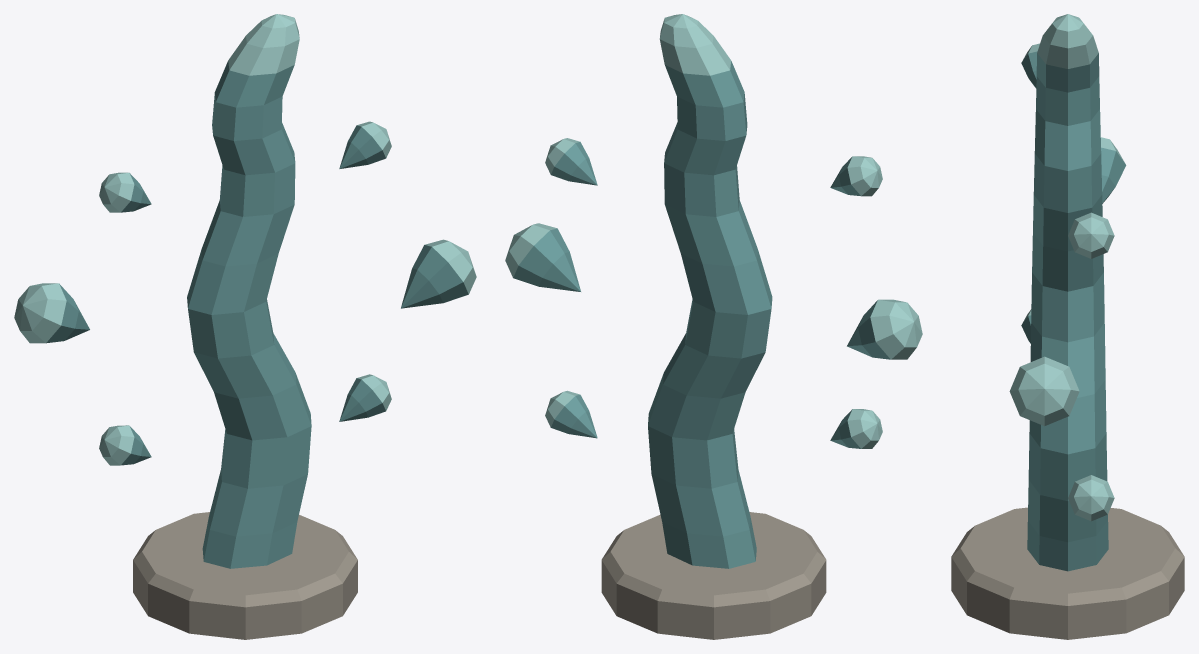
Rendered from KANJI_23_MIZU.fbx.
The picture shows the model from 3 angles, left to right: view 1: azimuth 30°, elevation 25°; view 2: azimuth 150°, elevation 25°; view 3: azimuth 270°, elevation 25°; orthographic projection. The views are drawn at different scales.
Visible parts, largest first — view 1: SM_KANJI_23_Mizu; view 2: SM_KANJI_23_Mizu; view 3: SM_KANJI_23_Mizu.
Part boxes in pixels (<box>): SM_KANJI_23_Mizu: <box>14,14,476,639</box>; SM_KANJI_23_Mizu: <box>505,14,922,639</box>; SM_KANJI_23_Mizu: <box>951,14,1184,639</box>.
Bounding box in the file's own units: 0.22 × 0.28 × 0.1.
